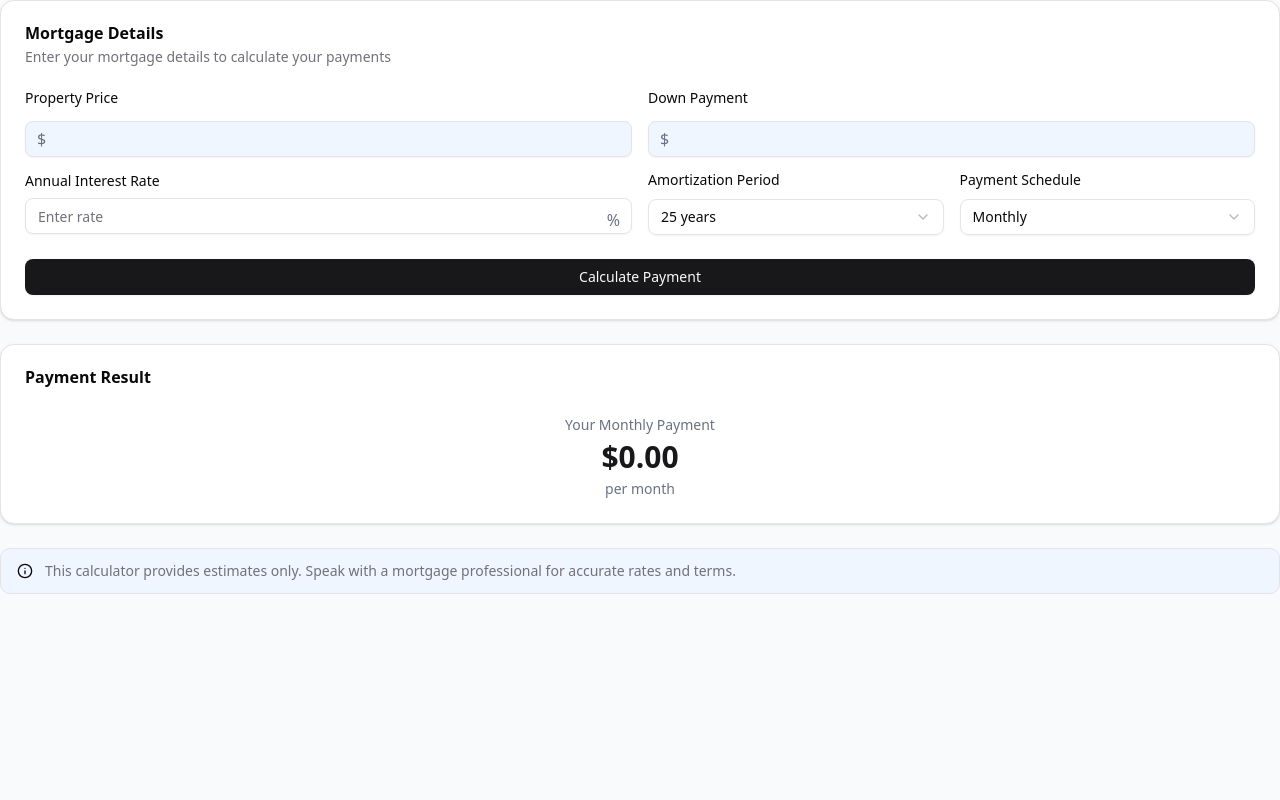
it: MortgageCalculator › handles zero down payment calculation
Type "200000" into the field labelled "Property Price" at (328, 139), box 25,121 -> 632,157
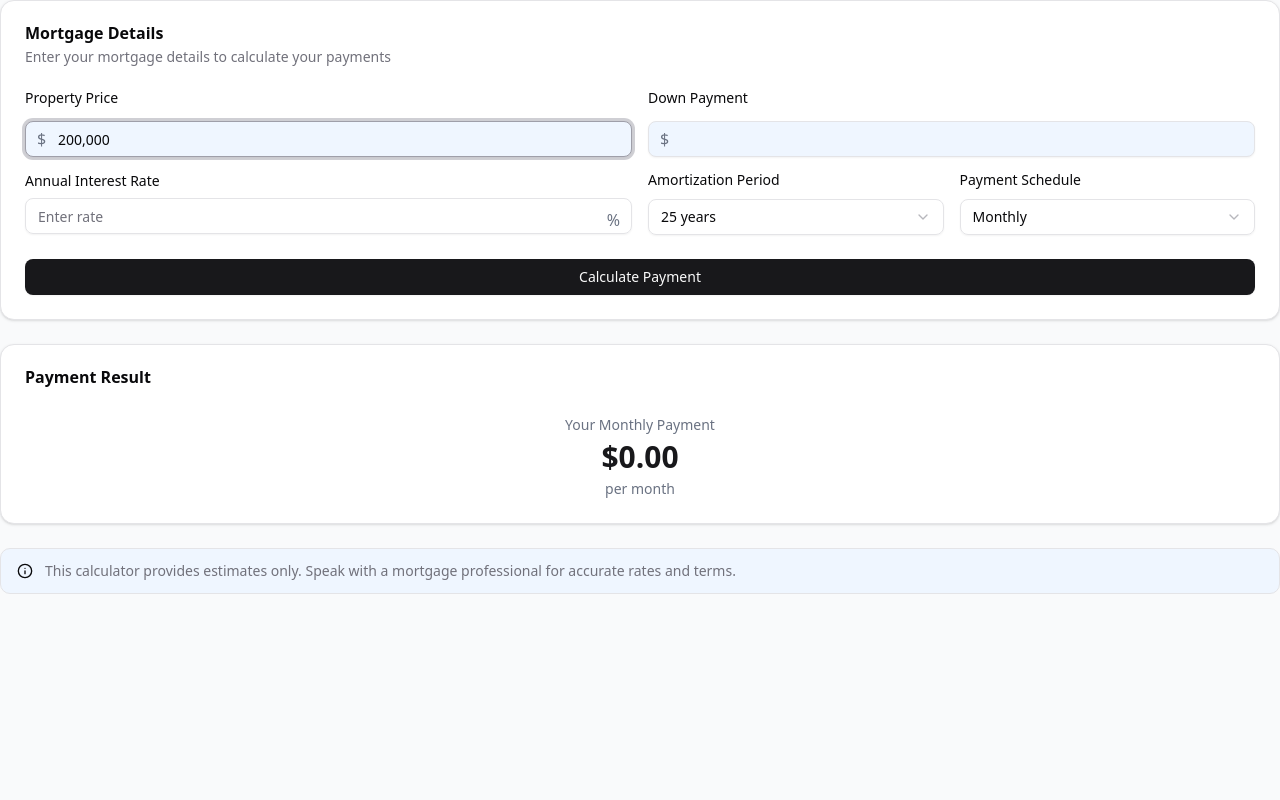
Type "0" into the field labelled "Down Payment" at (952, 139), box 648,121 -> 1255,157
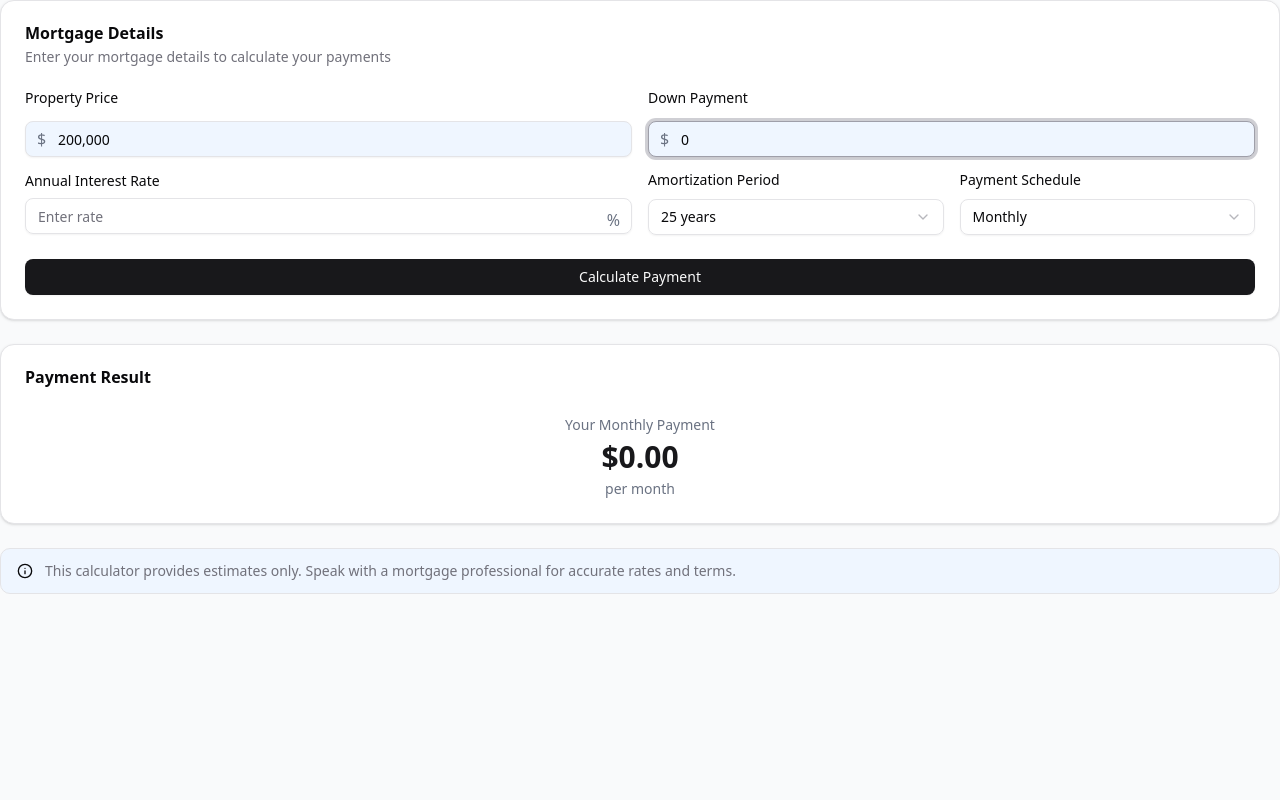
Type "3" into the field labelled "Annual Interest Rate" at (328, 216), box 25,198 -> 632,234
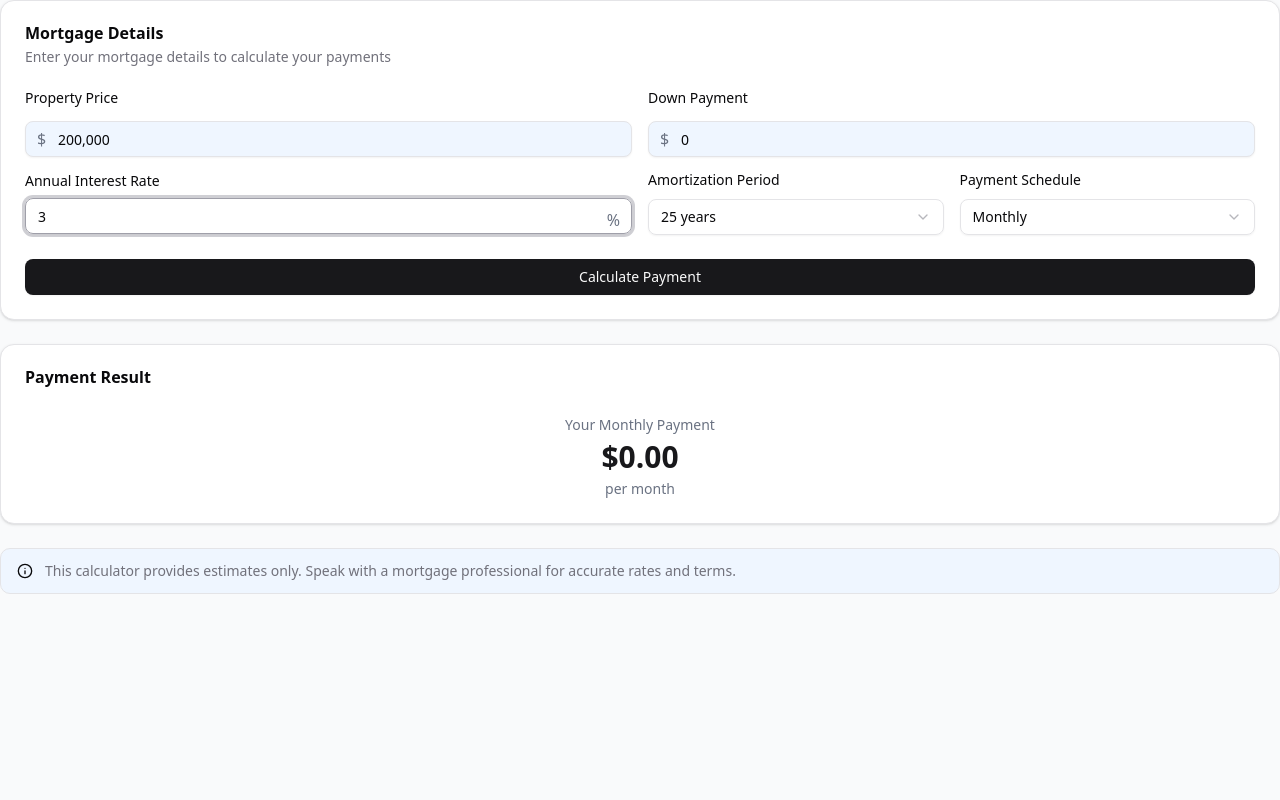
Click the button "Calculate Payment" at (640, 277), box 25,259 -> 1255,295
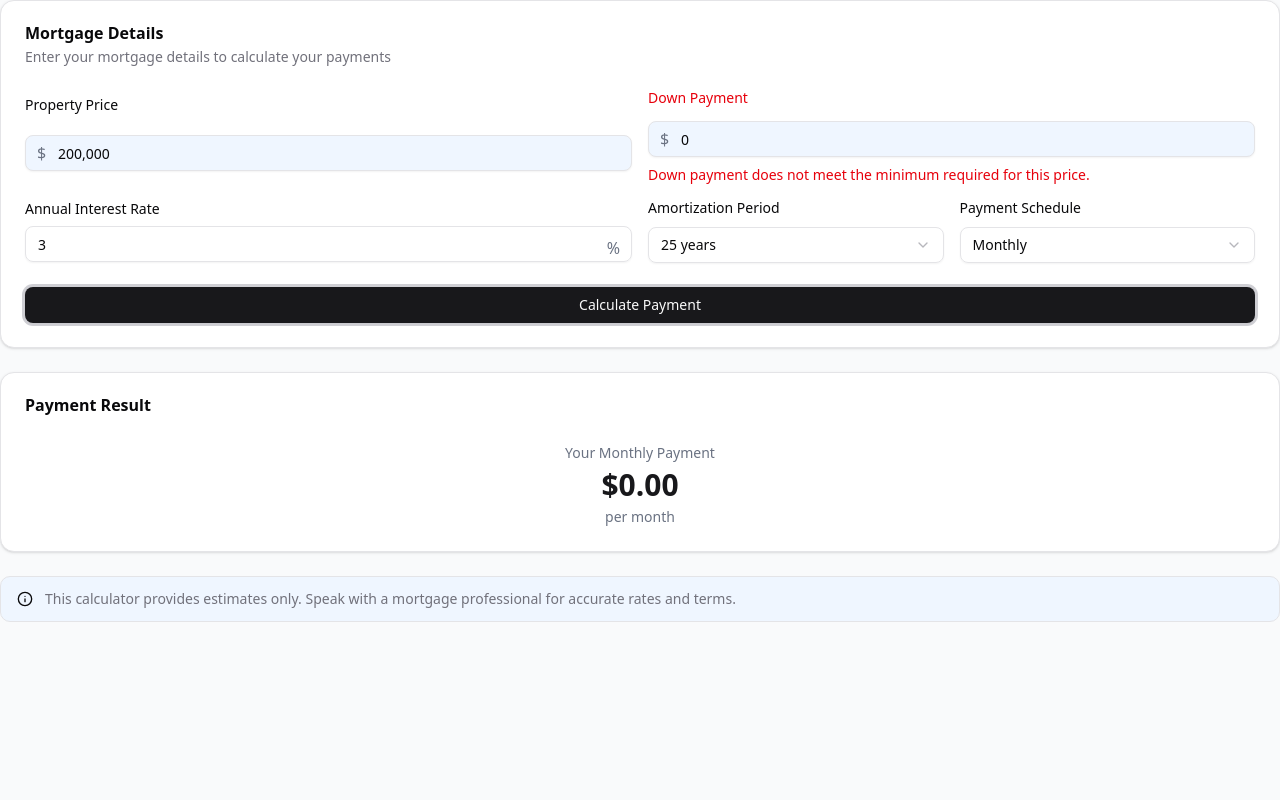
Expected: the text "Down payment does not meet the minimum required for this price." is shown, 648,165 -> 1090,184
